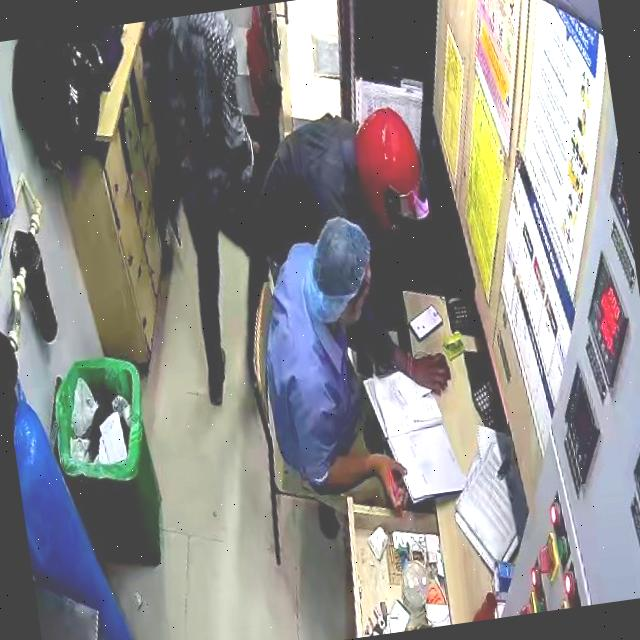helmet: (358, 108, 429, 235)
